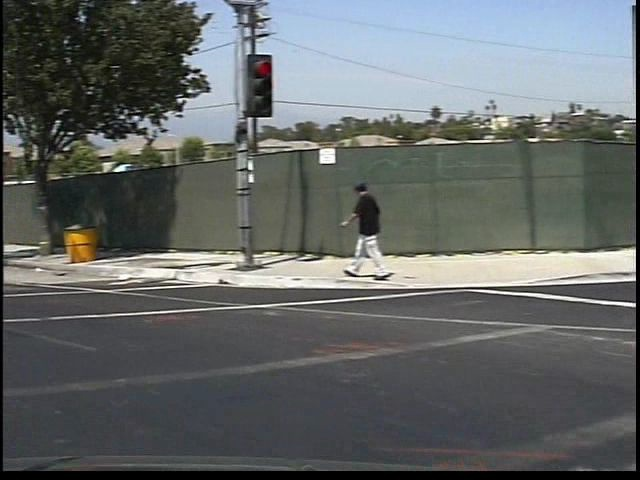person: (330, 164, 382, 286)
